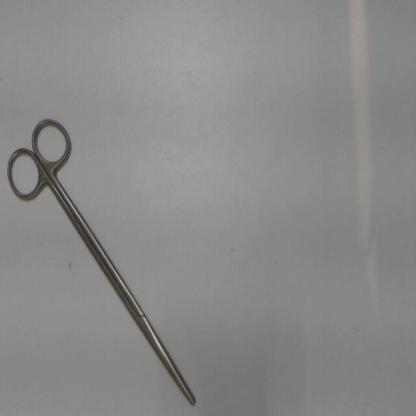9 Metzenbaum Scissors: (3, 106, 200, 411)
